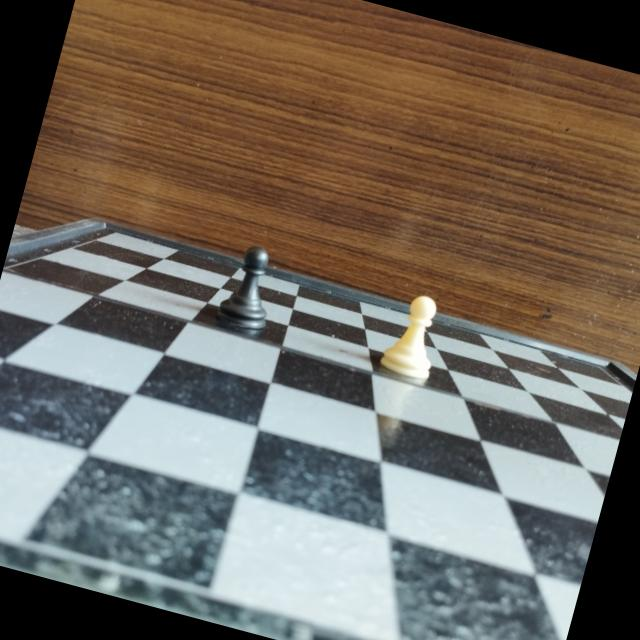Black Pawn: (210, 236, 288, 340)
White Pawn: (372, 284, 456, 392)
